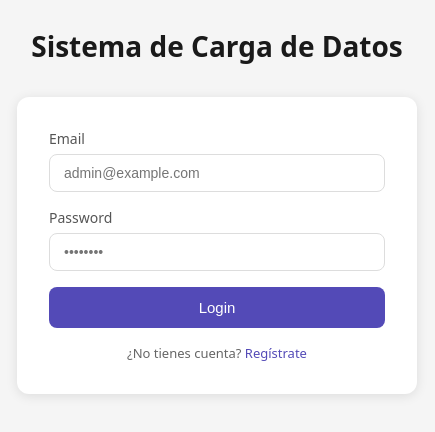
Login › shows an error when the credentials are invalid
Type "bad@example.com" into the field with placeholder "admin@example.com" at (217, 172), box [49,154,385,192]
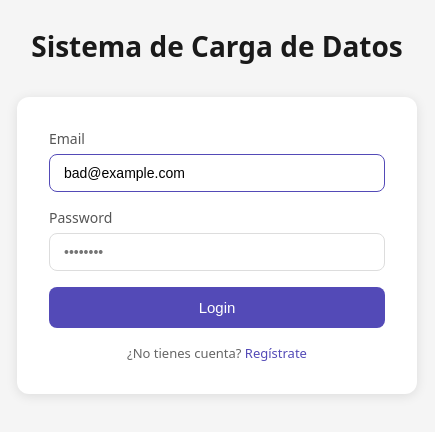
Type "wrongpass" into the password field with placeholder "••••••••" at (217, 252), box [49,232,385,270]
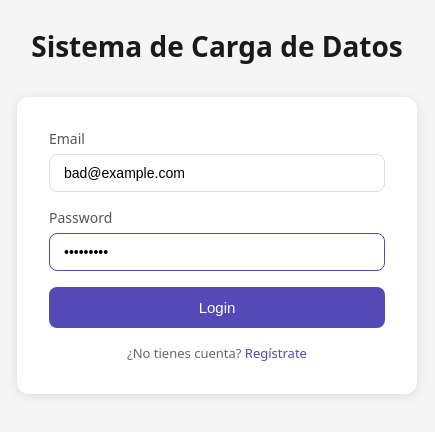
Click the button "Login" at (217, 307), box [49,286,385,328]
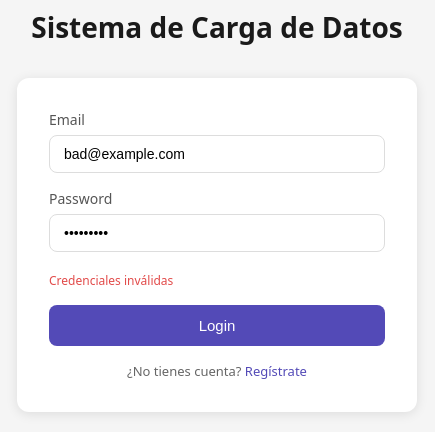
Expected: the text "Credenciales inválidas" is shown, [49,272,173,289]
